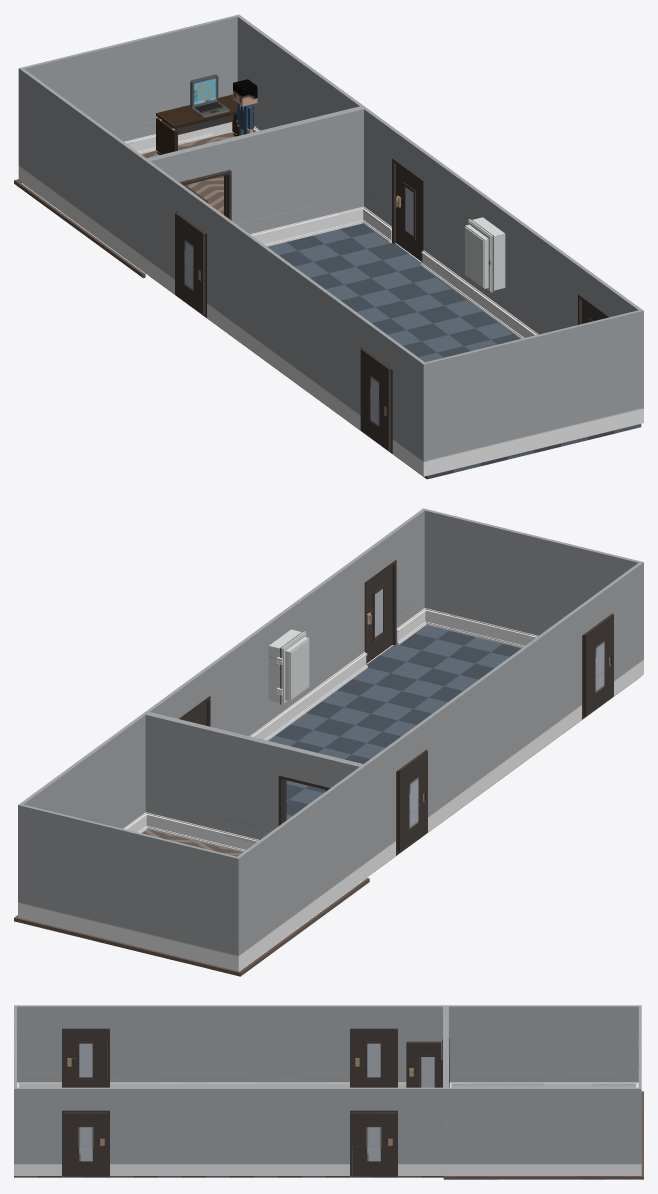
File: oficina principalPrimerNivel.fbx
3 renders of one model, top to bottom at view 1: azimuth 30°, elevation 25°; view 2: azimuth 150°, elevation 25°; view 3: azimuth 270°, elevation 25°, orthographic. The views are drawn at different scales.
Parts seen in each view (by area): view 1: Caja_425, Caja_390, Caja_289, Caja_602, Caja_203, Caja_204, Caja_262, Caja_588, Caja_194, Caja_261, Caja_254, Caja_586 (+63 smaller); view 2: Caja_339, Caja_390, Caja_425, Caja_602, Caja_195, Caja_176, Caja_585, Caja_189, Caja_590, Caja_174, Caja_177, Caja_190 (+67 smaller); view 3: Caja_289, Caja_339, Caja_390, Caja_425, _2, Caja_171, Caja_183, Caja_184, Caja_198, Caja_199, Caja_200, Caja_170 (+173 smaller).
Part boxes in pixels (<box>): Caja_425: <box>360,347,392,453</box>; Caja_390: <box>175,211,206,317</box>; Caja_289: <box>392,158,423,262</box>; Caja_602: <box>464,217,505,292</box>; Caja_203: <box>156,94,253,154</box>; Caja_204: <box>190,74,229,117</box>; Caja_262: <box>256,127,284,162</box>; Caja_588: <box>452,349,480,384</box>; Caja_194: <box>76,48,104,83</box>; Caja_261: <box>282,120,311,156</box>; Caja_254: <box>229,133,257,169</box>; Caja_586: <box>506,336,534,371</box>; Caja_339: <box>364,560,396,664</box>; Caja_390: <box>396,749,427,855</box>; Caja_425: <box>582,613,613,719</box>; Caja_602: <box>268,629,309,704</box>; Caja_195: <box>181,843,209,879</box>; Caja_176: <box>225,733,253,768</box>; Caja_585: <box>504,528,532,564</box>; Caja_189: <box>47,811,75,846</box>; Caja_590: <box>477,522,505,557</box>; Caja_174: <box>171,720,200,755</box>; Caja_177: <box>252,739,280,775</box>; Caja_190: <box>20,804,48,839</box>; Caja_289: <box>350,1110,397,1176</box>; Caja_339: <box>62,1110,109,1176</box>; Caja_390: <box>350,1028,397,1087</box>; Caja_425: <box>62,1028,109,1087</box>; _2: <box>406,1041,441,1087</box>; Caja_171: <box>472,1005,496,1028</box>; Caja_183: <box>520,1005,544,1028</box>; Caja_184: <box>496,1005,520,1028</box>; Caja_198: <box>592,1005,616,1028</box>; Caja_199: <box>568,1005,592,1028</box>; Caja_200: <box>544,1005,568,1028</box>; Caja_170: <box>472,1087,496,1110</box>.
Size of the model in its own units: 270 by 132 by 840.
1 material, 1 textured.
